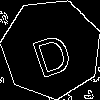D: (26, 23, 76, 79)
